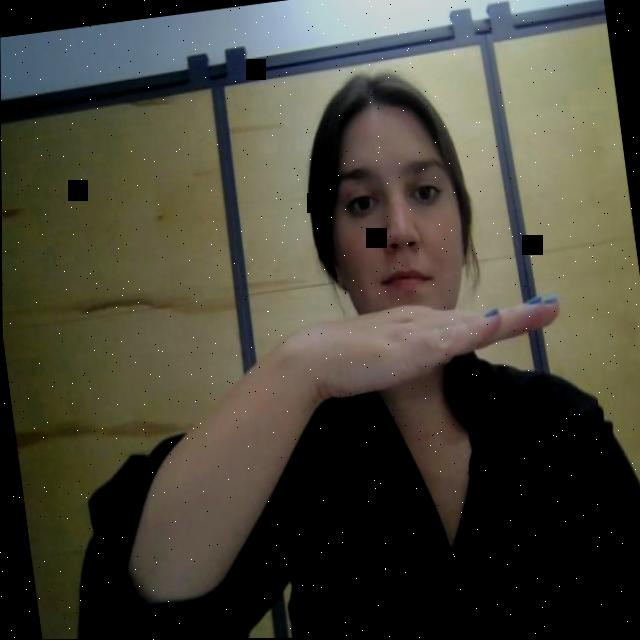Paper: (310, 261, 573, 426)
